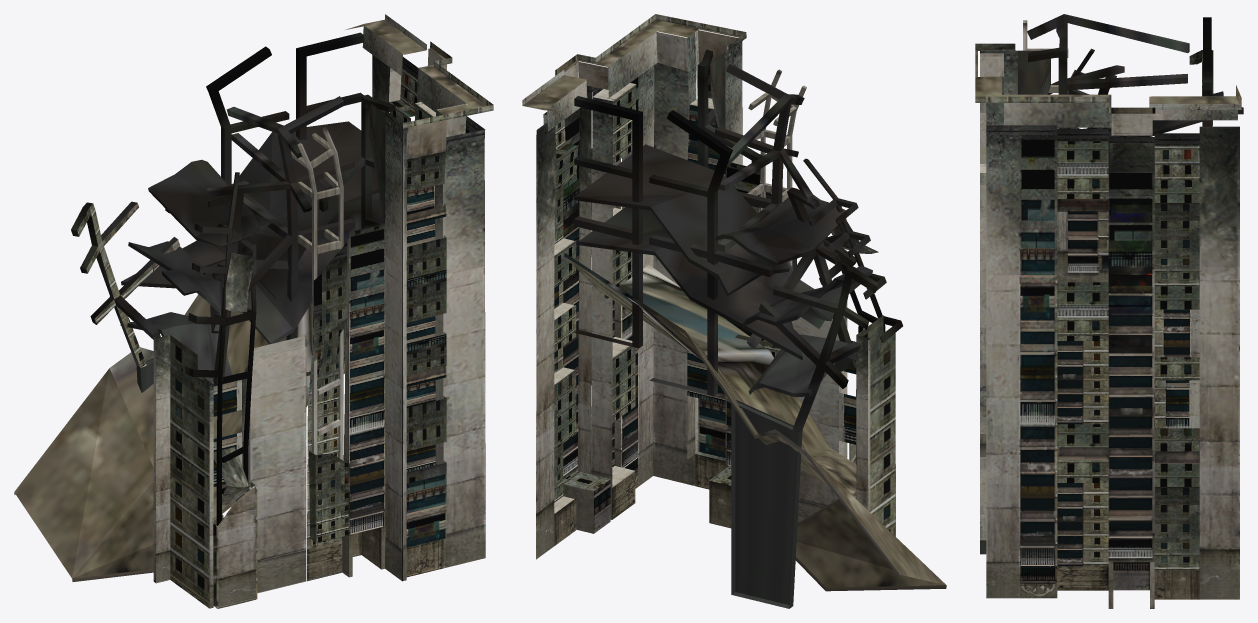
File: Ruin_Apartment_05.fbx
3 renders of one model, left to right at view 1: azimuth 30°, elevation 25°; view 2: azimuth 150°, elevation 25°; view 3: azimuth 270°, elevation 25°, orthographic. The views are drawn at different scales.
Visible parts, largest first — view 1: Ruin_Apartment_05_Part0_project_building04d; view 2: Ruin_Apartment_05_Part0_project_building04d; view 3: Ruin_Apartment_05_Part0_project_building04d.
Boxes of the visible parts, left/top/right/bottom form: Ruin_Apartment_05_Part0_project_building04d: left=14, top=14, right=493, bottom=608; Ruin_Apartment_05_Part0_project_building04d: left=522, top=14, right=946, bottom=608; Ruin_Apartment_05_Part0_project_building04d: left=975, top=14, right=1243, bottom=608.
Size of the model in its own units: 1.88 by 2.23 by 1.05.
